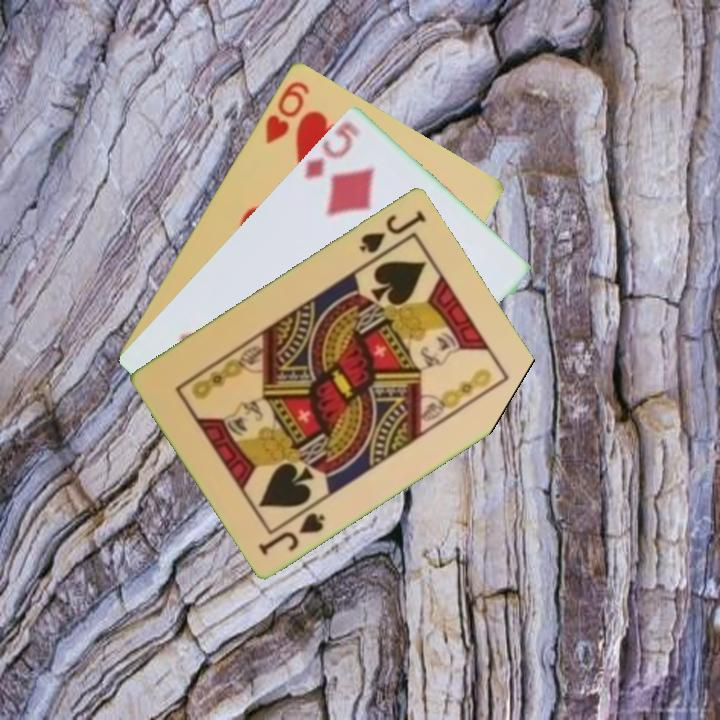5d: (300, 117, 363, 181)
6h: (261, 77, 313, 147)
Js: (355, 205, 430, 256), (254, 508, 328, 558)
